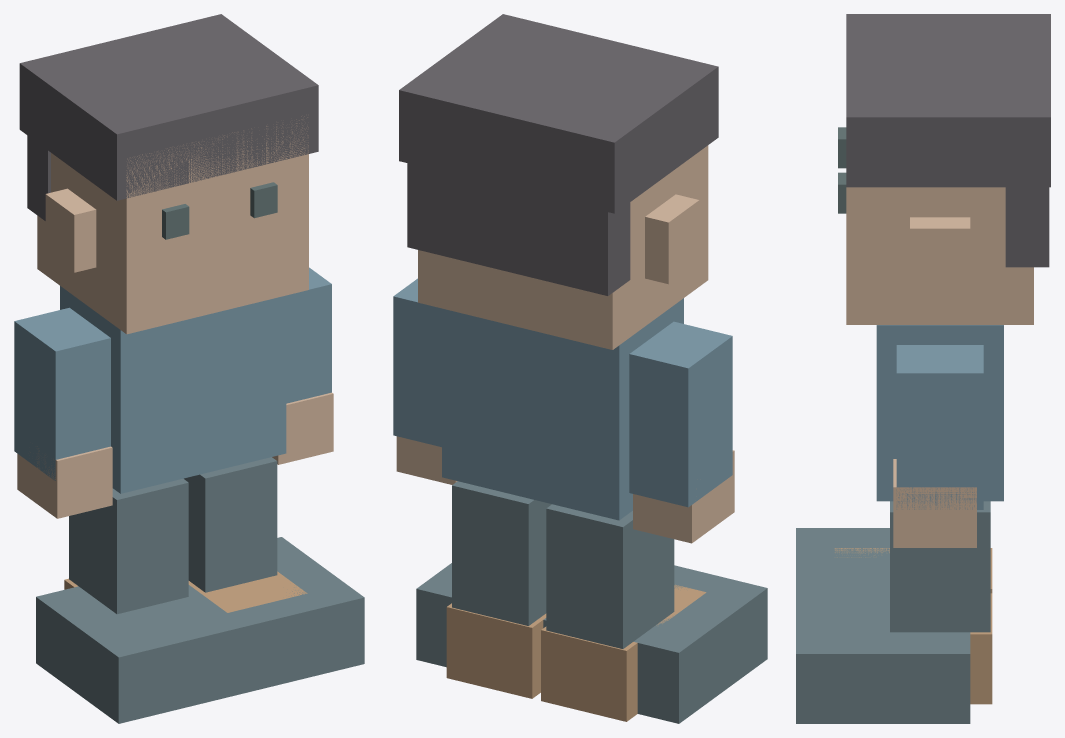
Rendered from character-3.glb.
3 views of the same model, side by side, from view 1: azimuth 30°, elevation 25°; view 2: azimuth 150°, elevation 25°; view 3: azimuth 270°, elevation 25° (orthographic). The views are drawn at different scales.
Visible parts, largest first — view 1: body_hair3.001, body_skin3.001, sit_pants.007, body_shirt3.001, stand_pants.007, arms_shirt3.001, arms_skin3.001, stand_wood.007, body_black.007; view 2: body_hair3.001, body_shirt3.001, stand_pants.007, arms_shirt3.001, body_skin3.001, sit_pants.007, stand_wood.007, arms_skin3.001; view 3: body_hair3.001, sit_pants.007, body_skin3.001, arms_shirt3.001, stand_pants.007, body_shirt3.001, arms_skin3.001, stand_wood.007, body_black.007.
Boxes of the visible parts, bbox=[...] form: body_hair3.001: bbox=[19, 14, 318, 220]; body_skin3.001: bbox=[37, 116, 308, 334]; sit_pants.007: bbox=[36, 537, 364, 723]; body_shirt3.001: bbox=[60, 286, 286, 493]; stand_pants.007: bbox=[69, 457, 277, 614]; arms_shirt3.001: bbox=[14, 267, 331, 480]; arms_skin3.001: bbox=[17, 392, 333, 518]; stand_wood.007: bbox=[64, 571, 307, 612]; body_black.007: bbox=[162, 182, 277, 239]; body_hair3.001: bbox=[399, 14, 718, 295]; body_shirt3.001: bbox=[442, 298, 683, 520]; stand_pants.007: bbox=[452, 481, 674, 648]; arms_shirt3.001: bbox=[393, 278, 732, 507]; body_skin3.001: bbox=[418, 145, 708, 349]; sit_pants.007: bbox=[416, 563, 767, 723]; stand_wood.007: bbox=[446, 584, 706, 721]; arms_skin3.001: bbox=[396, 436, 734, 543]; body_hair3.001: bbox=[846, 14, 1050, 267]; sit_pants.007: bbox=[796, 528, 970, 723]; body_skin3.001: bbox=[846, 187, 1033, 324]; arms_shirt3.001: bbox=[896, 345, 983, 509]; stand_pants.007: bbox=[890, 501, 990, 632]; body_shirt3.001: bbox=[876, 325, 1003, 501]; arms_skin3.001: bbox=[893, 459, 976, 547]; stand_wood.007: bbox=[834, 548, 992, 704]; body_black.007: bbox=[838, 127, 846, 213].
Size of the model in its own units: 1 by 1.96 by 0.76.
